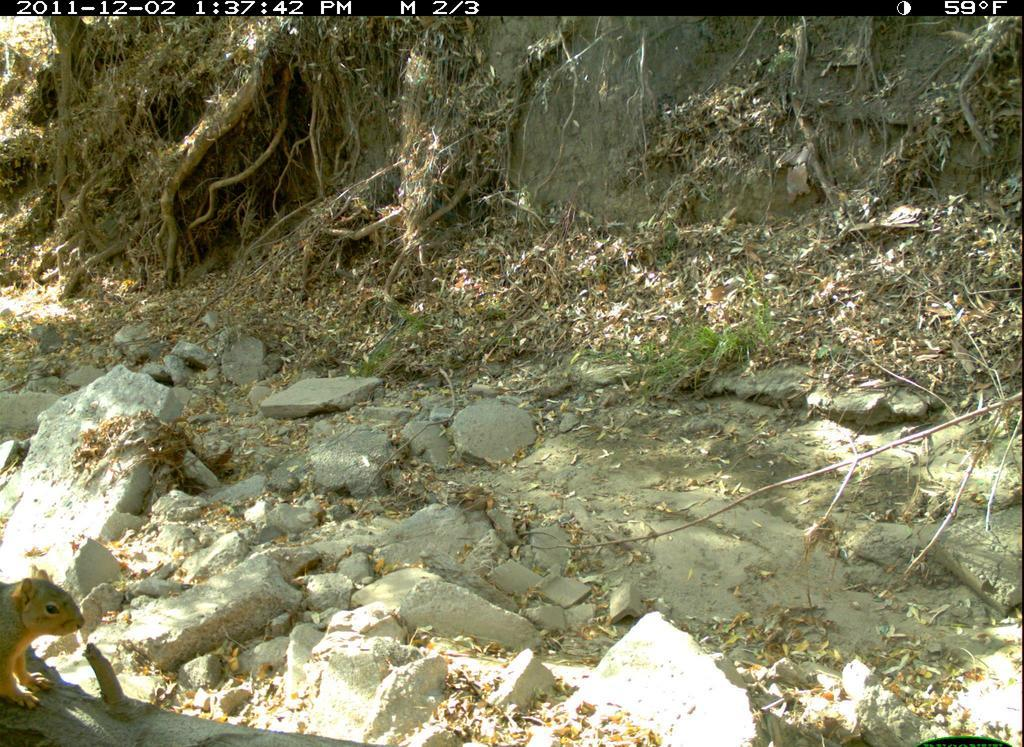squirrel: (1, 566, 91, 721)
